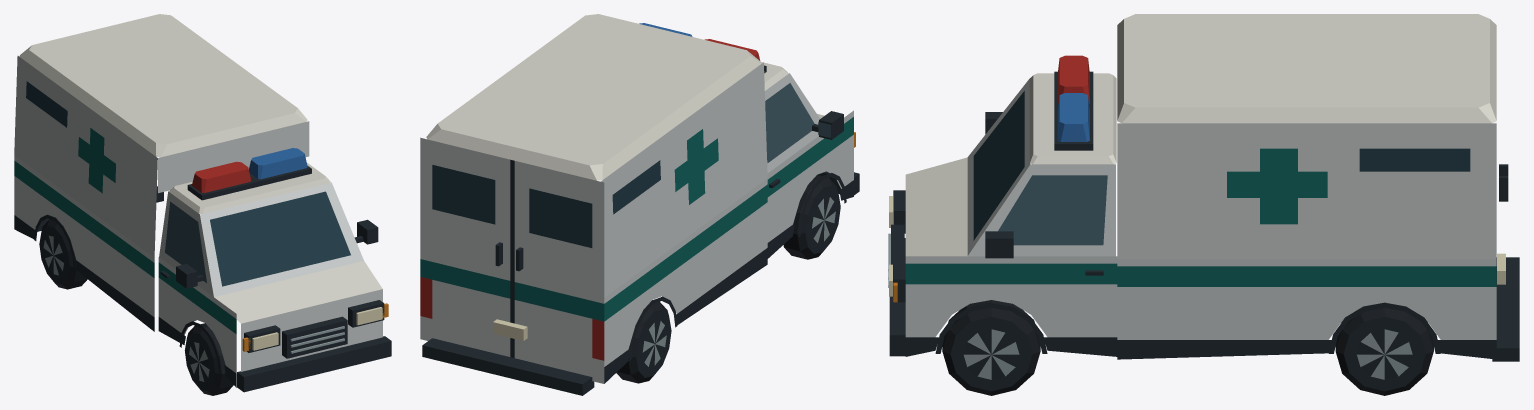
File: ambulance.glb
3 views of the same model, side by side, from view 1: azimuth 30°, elevation 25°; view 2: azimuth 150°, elevation 25°; view 3: azimuth 270°, elevation 25° (orthographic). The views are drawn at different scales.
Parts seen in each view (by area): view 1: AmbulanceBody, EmergencyBlue, EmergencyRed; view 2: AmbulanceBody; view 3: AmbulanceBody, EmergencyBlue, EmergencyRed.
Part boxes in pixels (<box>): AmbulanceBody: <box>14,14,391,395</box>; EmergencyBlue: <box>249,148,307,179</box>; EmergencyRed: <box>192,161,251,192</box>; AmbulanceBody: <box>420,14,859,395</box>; AmbulanceBody: <box>888,14,1519,395</box>; EmergencyBlue: <box>1057,93,1089,141</box>; EmergencyRed: <box>1057,55,1089,103</box>.
Bounding box in the file's own units: 2.62 × 2.75 × 5.52.
